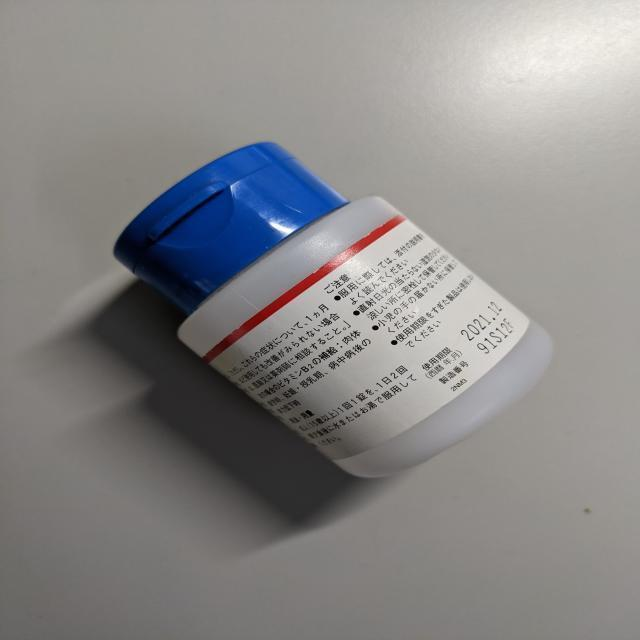Plastic: (117, 136, 558, 486)
